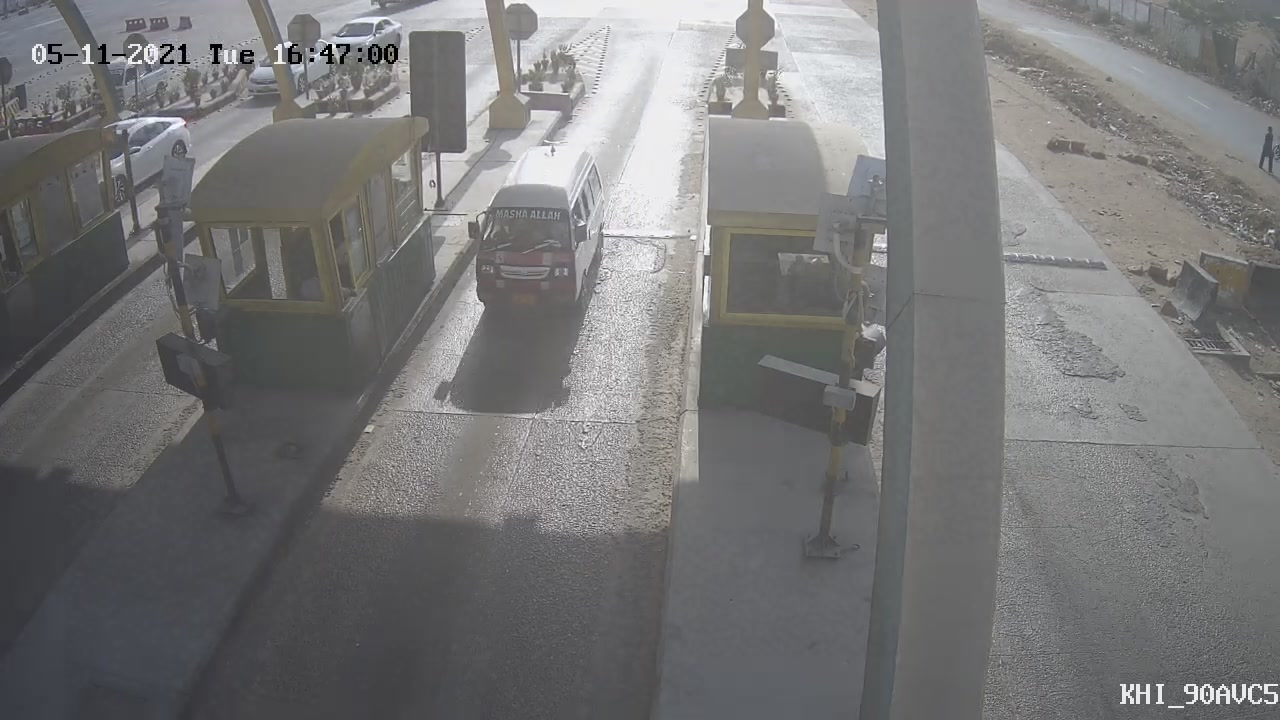F1: (447, 125, 626, 338)
